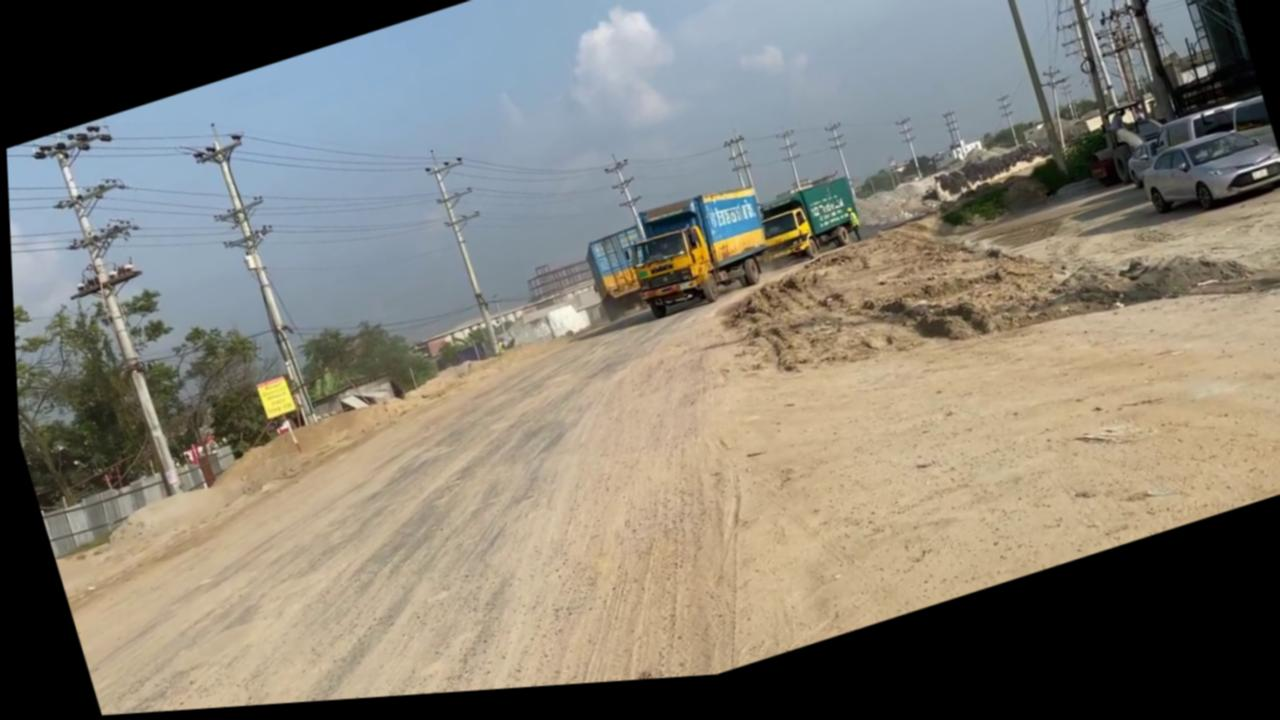Car: (1130, 132, 1280, 244)
Fence: (33, 447, 244, 560)
Muddy road: (723, 198, 1034, 420)
Pole: (25, 115, 211, 512), (181, 120, 324, 443), (417, 146, 517, 370), (970, 0, 1078, 198), (1033, 0, 1145, 154)
Traffic-light: (250, 376, 293, 425)
Tree: (472, 230, 662, 366), (611, 185, 779, 333), (744, 183, 864, 284), (1071, 108, 1174, 210), (577, 230, 661, 331), (746, 213, 818, 283)
